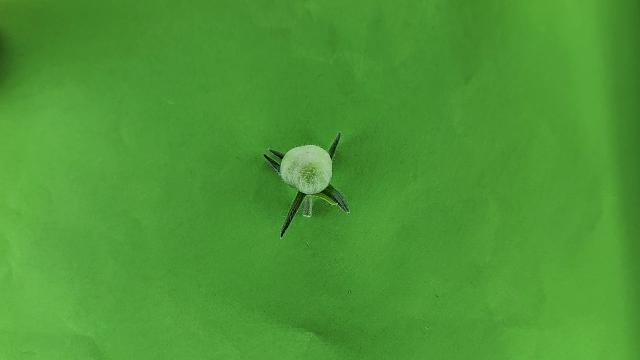Fruit Maturation: (279, 144, 334, 194)
